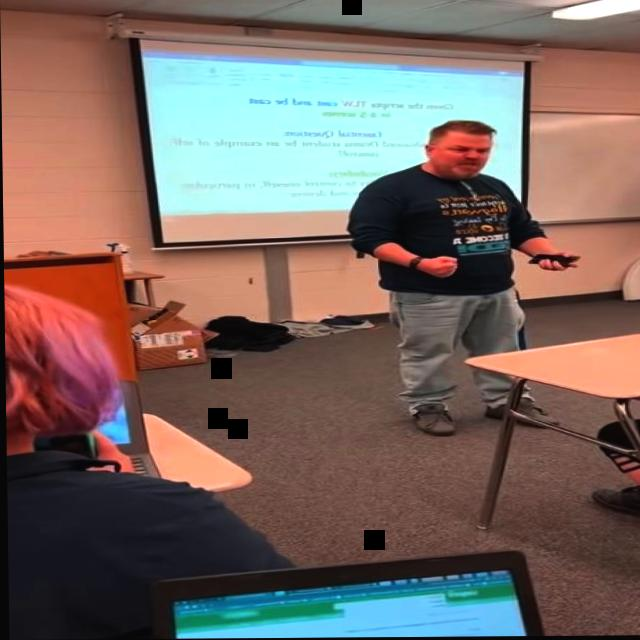NO-Mask: (426, 128, 492, 180)
